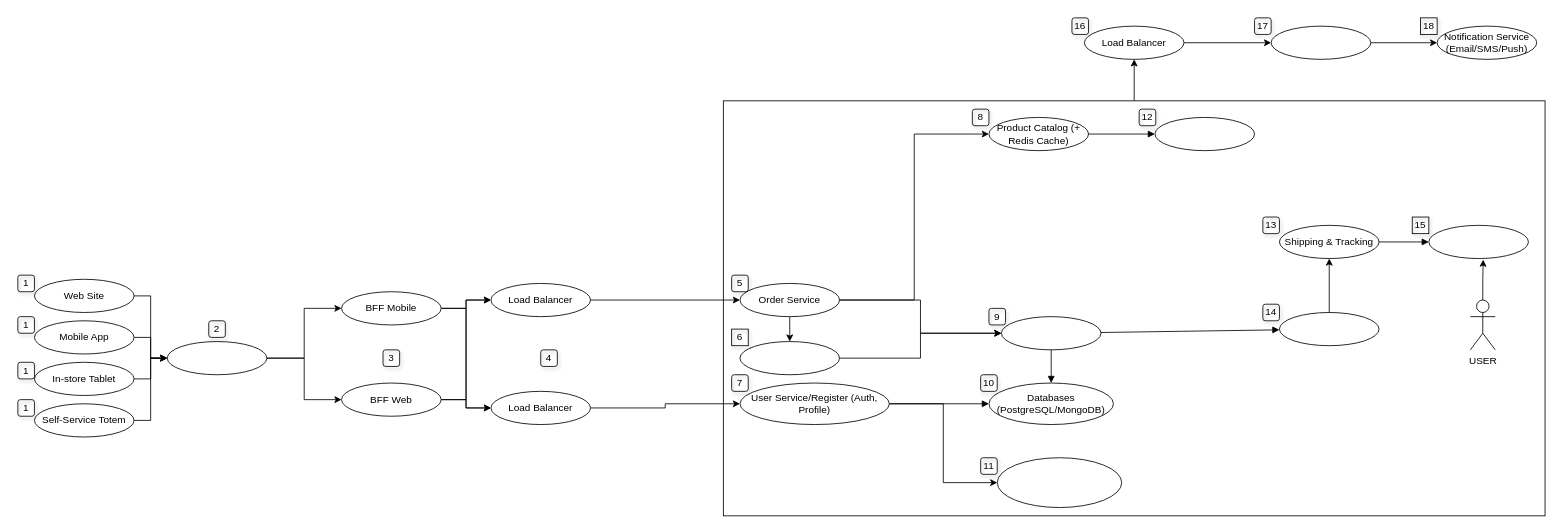
Some shapes in this 1560 by 530 pixel diagram are drawn without their labels. The centre of each missing label's shape, as x and y in pixels:
API Gateway: [216,358]
Inventory Service: [1051,333]
Local Fulfillment Center: [1329,329]
Message Broker (Kafka/RabbitMQ): [1320,42]
Observability Stack (Prometheus, Grafana, ELK): [1059,482]
Payment Gateway (Pagar.me): [789,358]
Redis (Caching): [1204,134]
User Monitoring: [1478,242]
